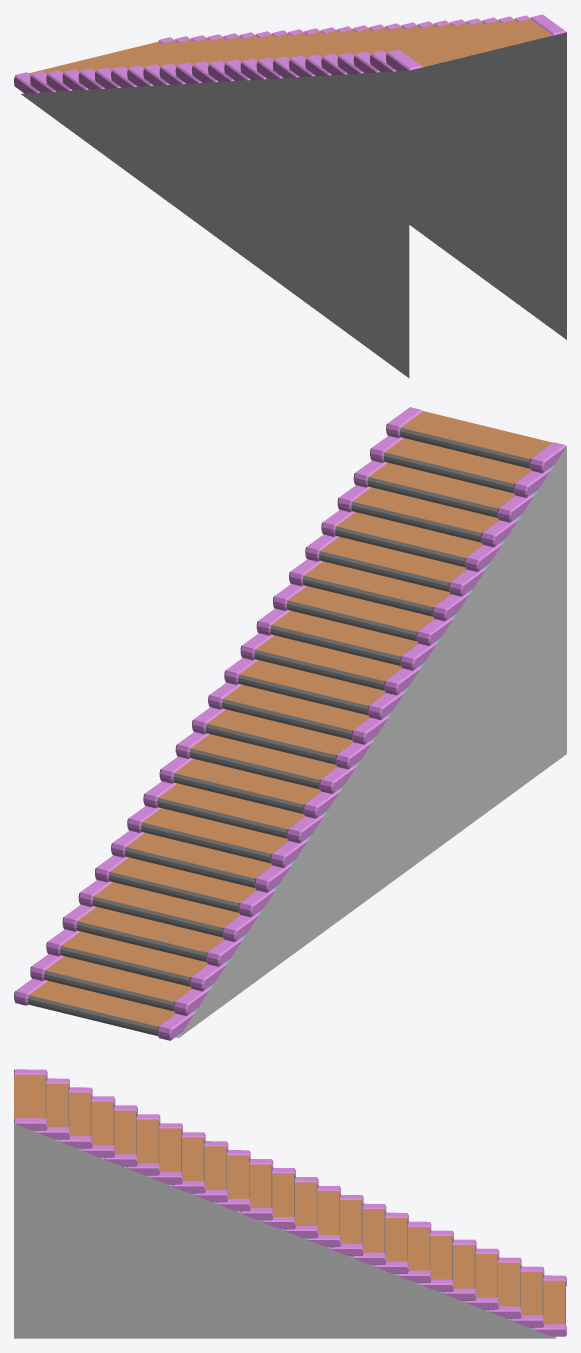
File: AgilityStair.fbx
3 views of the same model, one above another, from view 1: azimuth 30°, elevation 25°; view 2: azimuth 150°, elevation 25°; view 3: azimuth 270°, elevation 25° (orthographic). The views are drawn at different scales.
Parts seen in each view (by area): view 1: AgilityStairway, AgilityStair; view 2: AgilityStair, AgilityStairway; view 3: AgilityStairway, AgilityStair.
Part boxes in pixels (bbox=[...]): AgilityStairway: bbox=[21, 32, 566, 377]; AgilityStair: bbox=[14, 14, 566, 93]; AgilityStair: bbox=[14, 407, 566, 1040]; AgilityStairway: bbox=[179, 446, 566, 1037]; AgilityStairway: bbox=[14, 1124, 556, 1338]; AgilityStair: bbox=[14, 1069, 566, 1337].
Size of the model in its own units: 2.25 by 4.22 by 9.79.
